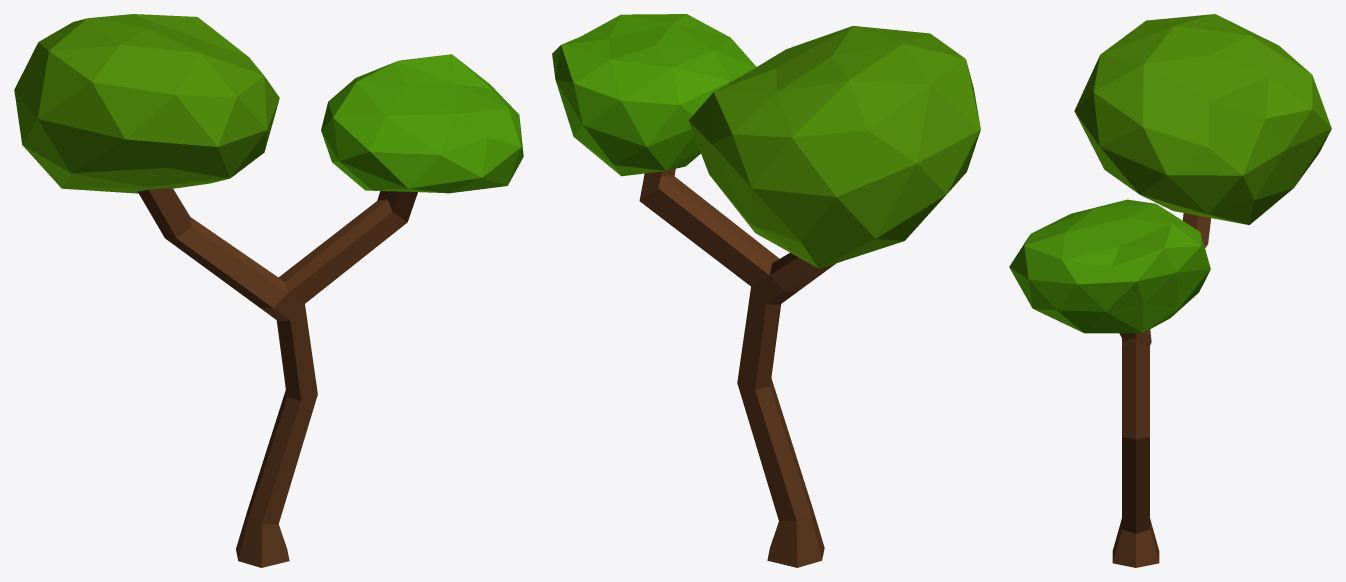
Rendered from tree7.fbx.
3 renders of one model, left to right at view 1: azimuth 30°, elevation 25°; view 2: azimuth 150°, elevation 25°; view 3: azimuth 270°, elevation 25°, orthographic. The views are drawn at different scales.
Visible parts, largest first — view 1: Low poly tree #4; view 2: Low poly tree #4; view 3: Low poly tree #4.
Part boxes in pixels (box(x1,y1,x2,y2)): Low poly tree #4: box(14, 14, 523, 567); Low poly tree #4: box(552, 14, 980, 567); Low poly tree #4: box(1009, 14, 1331, 567).
Size of the model in its own units: 434 by 509 by 312.
